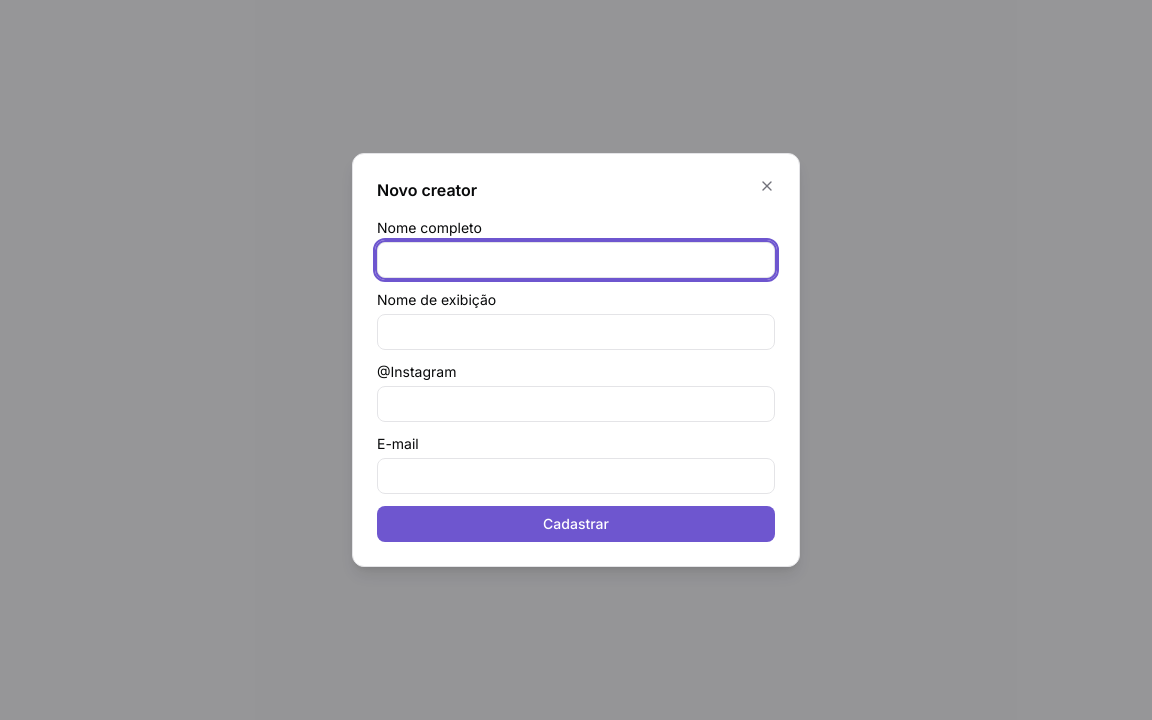
CreatorFormDialog › shows server field errors, including the 409 under E-mail
Type "Thais" into the field labelled "Nome completo" at (576, 260), box [377, 242, 775, 278]
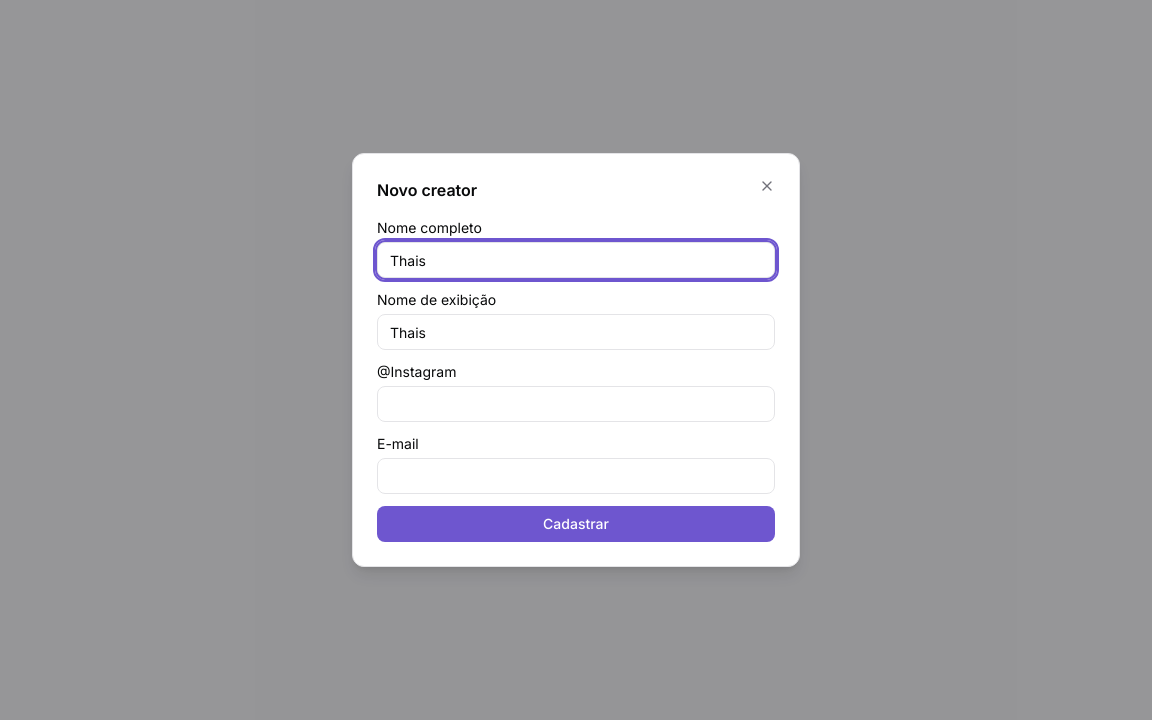
Type "thais@x.com" into the field labelled "E-mail" at (576, 476), box [377, 458, 775, 494]
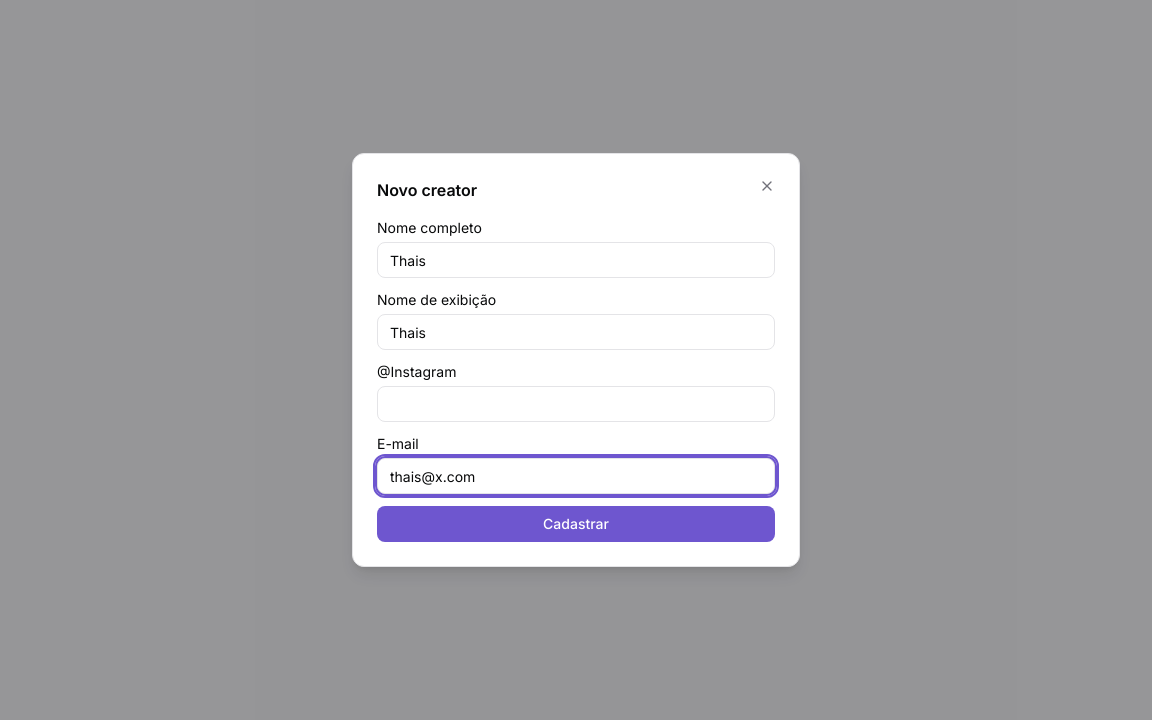
Click the button "Cadastrar" at (576, 524), box [377, 506, 775, 542]
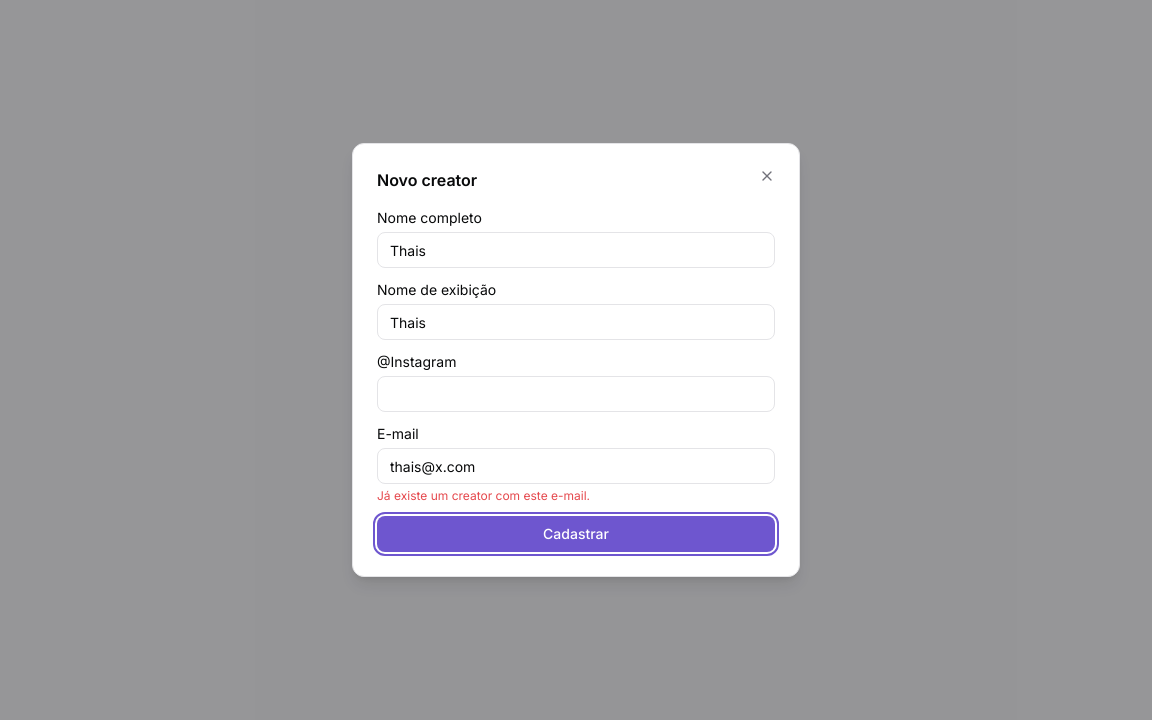
Expected: the text "Já existe um creator com este e-mail." is shown, [377, 488, 590, 503]
Click the button "Cadastrar" at (576, 534), box [377, 516, 775, 552]
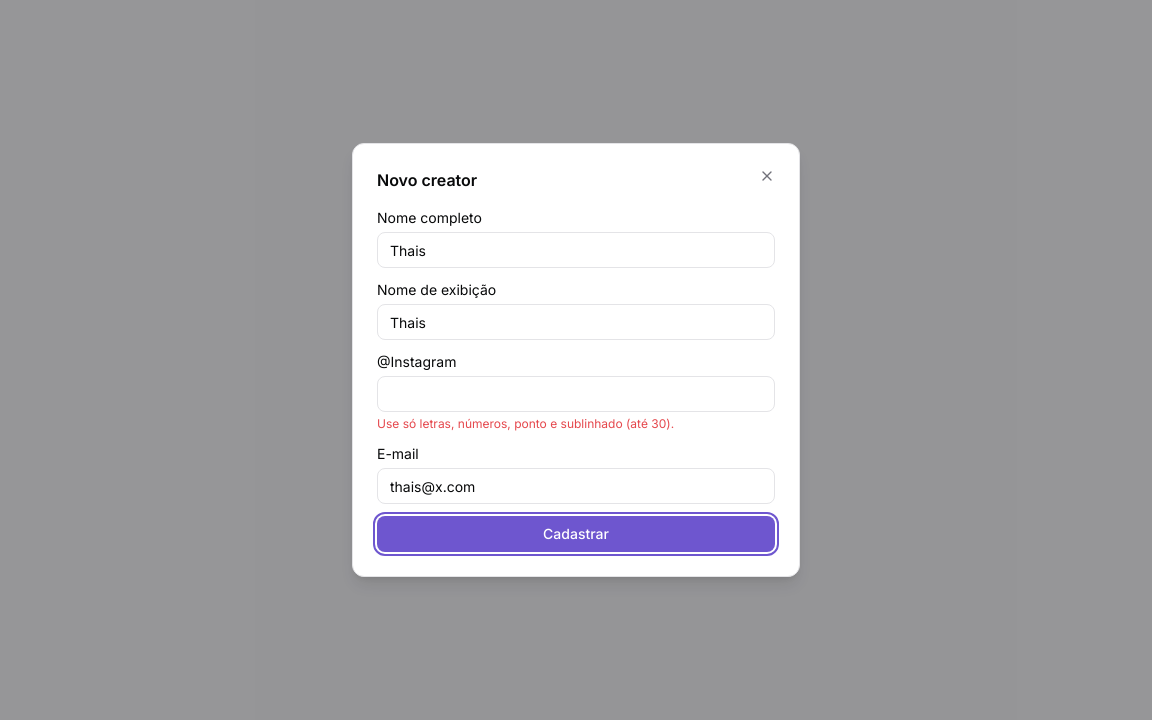
Expected: the text "Use só letras, números, ponto e sublinhado (até 30)." is shown, [377, 416, 674, 431]
